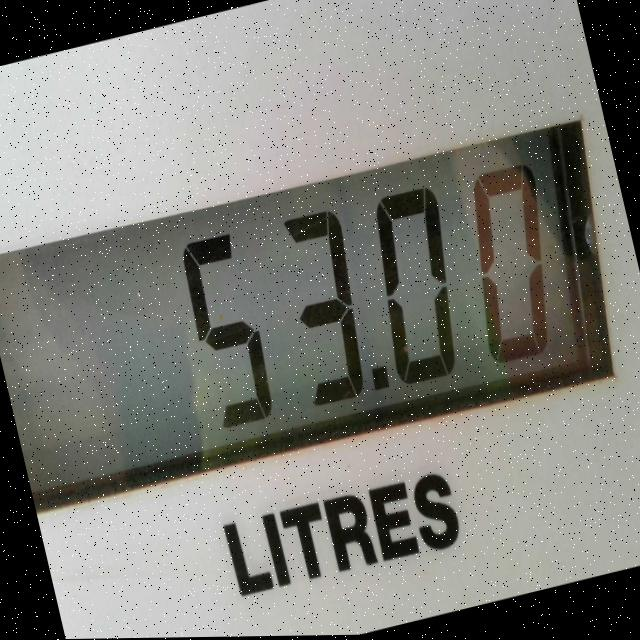.: (369, 366, 411, 416)
0: (445, 155, 574, 380), (354, 183, 478, 397)
3: (268, 200, 381, 424)
5: (170, 228, 286, 440)
